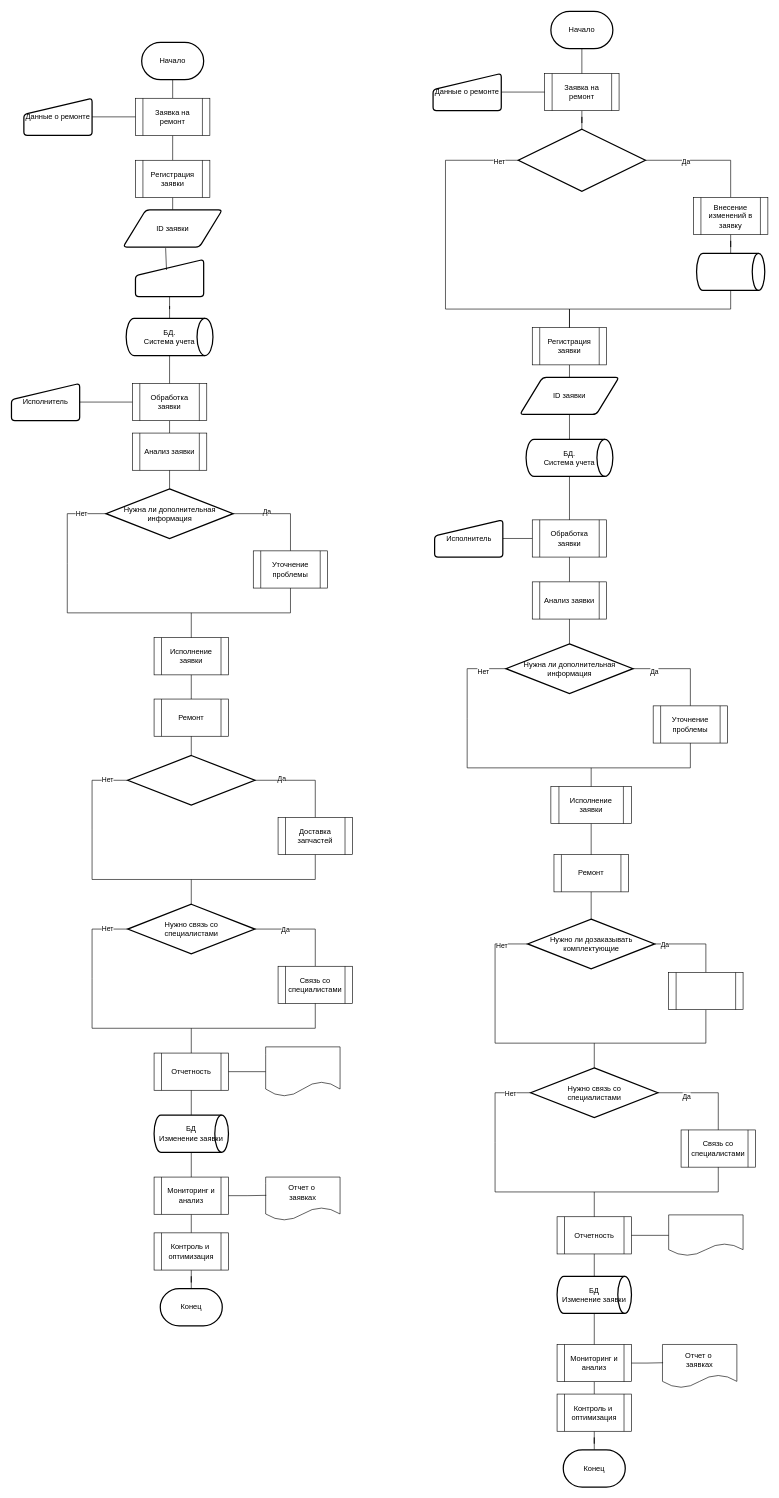
Some shapes in this 779 by 1498 pixel diagram are drawn without their labels. The box of each missing label's shape, as (x1, y1, x2, y2) in pixels:
БД Заявки: (696, 252, 765, 291)
Доставка комплектующих: (668, 972, 743, 1010)
Нужно ли внести изменения в заявку от заказчика?: (517, 128, 646, 192)
Нужно ли дозаказывать запчасти: (127, 755, 255, 805)
Отчет о работе: (668, 1214, 743, 1256)
Отчет о ресурсах: (265, 1046, 340, 1096)
приоритет заявки: (135, 259, 204, 297)
